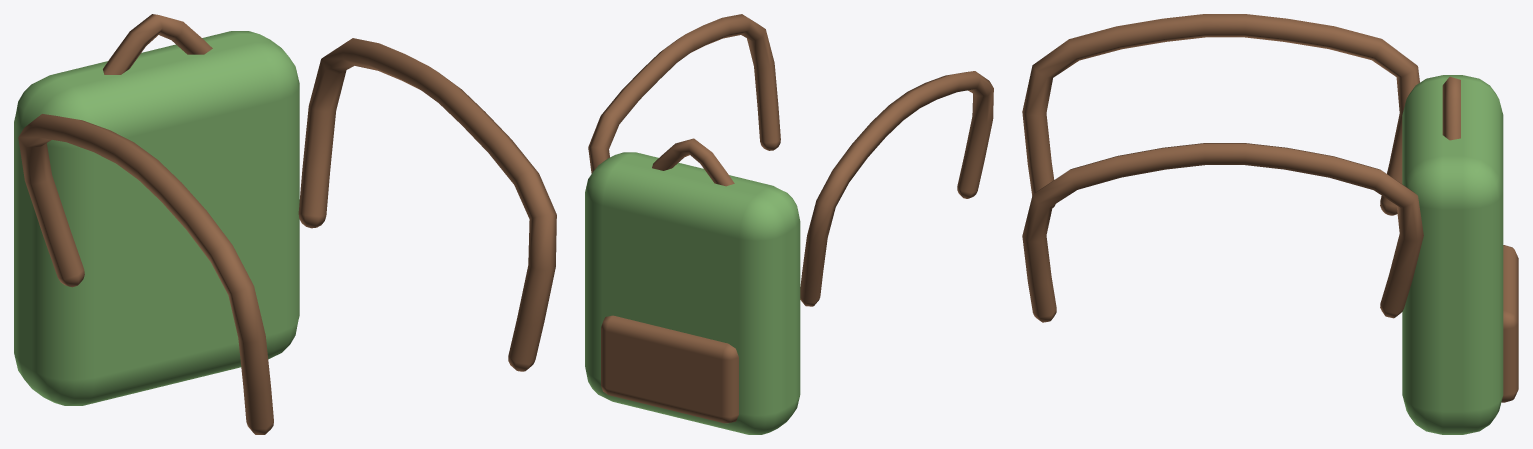
File: knitted_grass_backpack.glb
3 views of the same model, side by side, from view 1: azimuth 30°, elevation 25°; view 2: azimuth 150°, elevation 25°; view 3: azimuth 270°, elevation 25° (orthographic). The views are drawn at different scales.
Parts seen in each view (by area): view 1: knitted_grass_backpack_Body; view 2: knitted_grass_backpack_Body; view 3: knitted_grass_backpack_Body.
Part boxes in pixels (left/top/right/bottom): knitted_grass_backpack_Body: left=14, top=14, right=556, bottom=434; knitted_grass_backpack_Body: left=585, top=14, right=993, bottom=434; knitted_grass_backpack_Body: left=1022, top=14, right=1518, bottom=434.
Size of the model in its own units: 0.327 by 0.3445 by 0.4902.
